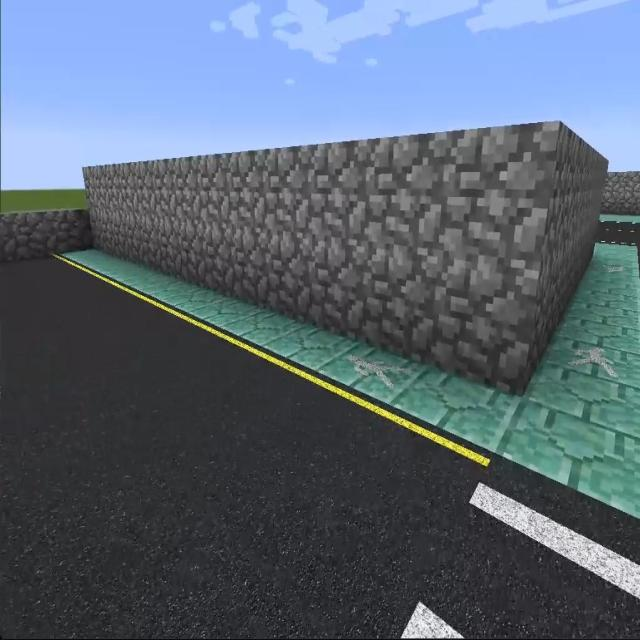crosswalk: (398, 457, 639, 636)
road: (2, 256, 495, 630), (598, 220, 639, 263)
sidewalk: (66, 244, 639, 517), (601, 214, 639, 223)
